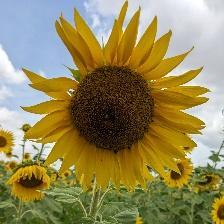sunflower: (41, 34, 196, 184)
